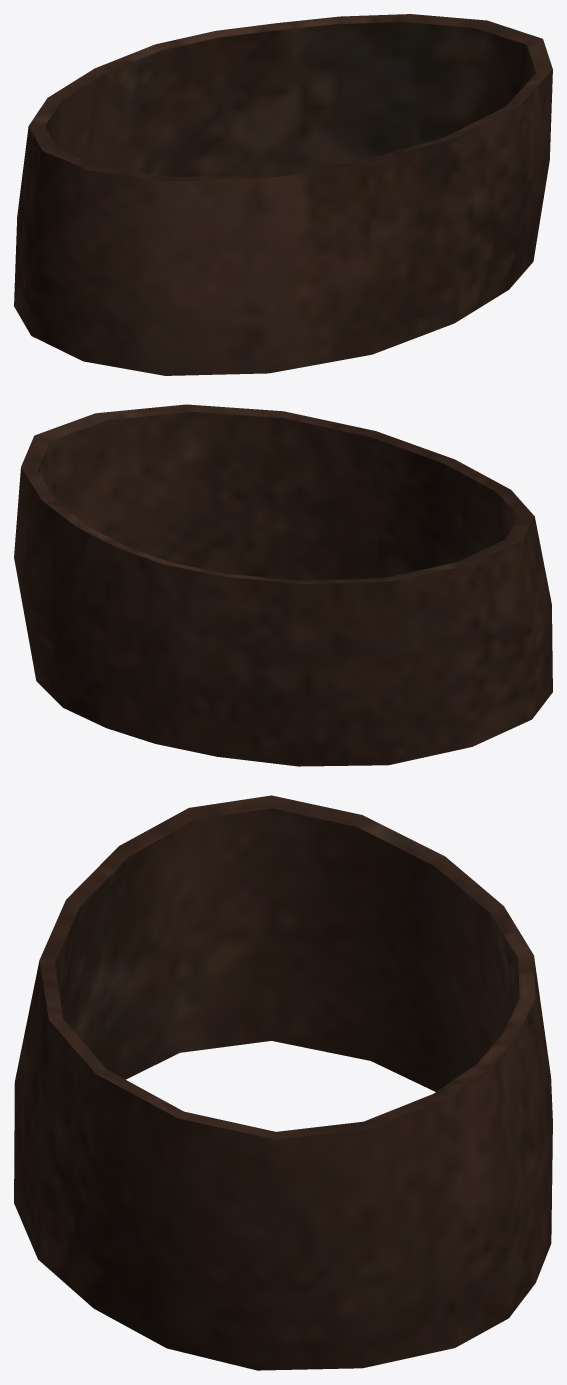
Rendered from wm_isengard_1h_sword_a02_guard.fbx.
3 views of the same model, one above another, from view 1: azimuth 30°, elevation 25°; view 2: azimuth 150°, elevation 25°; view 3: azimuth 270°, elevation 25° (orthographic). The views are drawn at different scales.
Visible parts, largest first — view 1: wm_isengard_1h_sword_a02_guard; view 2: wm_isengard_1h_sword_a02_guard; view 3: wm_isengard_1h_sword_a02_guard.
Part boxes in pixels (x1=…): wm_isengard_1h_sword_a02_guard: x1=14, y1=14, x2=552, y2=375; wm_isengard_1h_sword_a02_guard: x1=14, y1=404, x2=552, y2=766; wm_isengard_1h_sword_a02_guard: x1=14, y1=795, x2=552, y2=1370.
Size of the model in its own units: 0.0606 by 0.0411 by 0.0228.
Materials: 1 (1 with a texture image).
